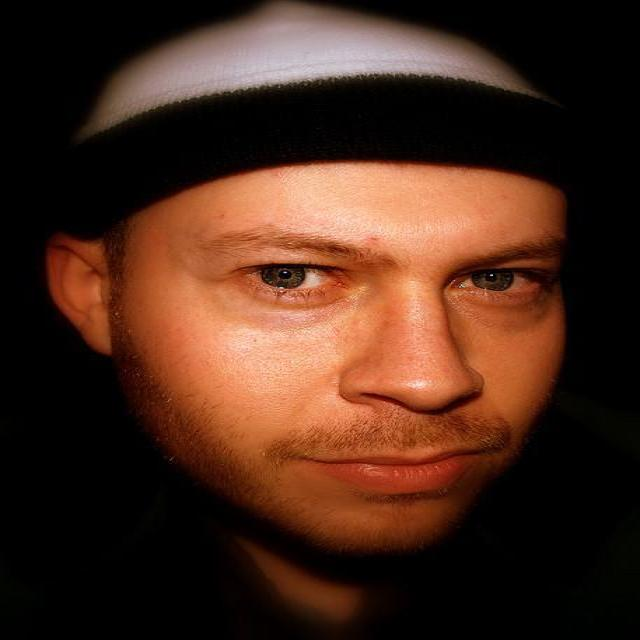Eyebags: (228, 284, 355, 335), (456, 292, 547, 329)
